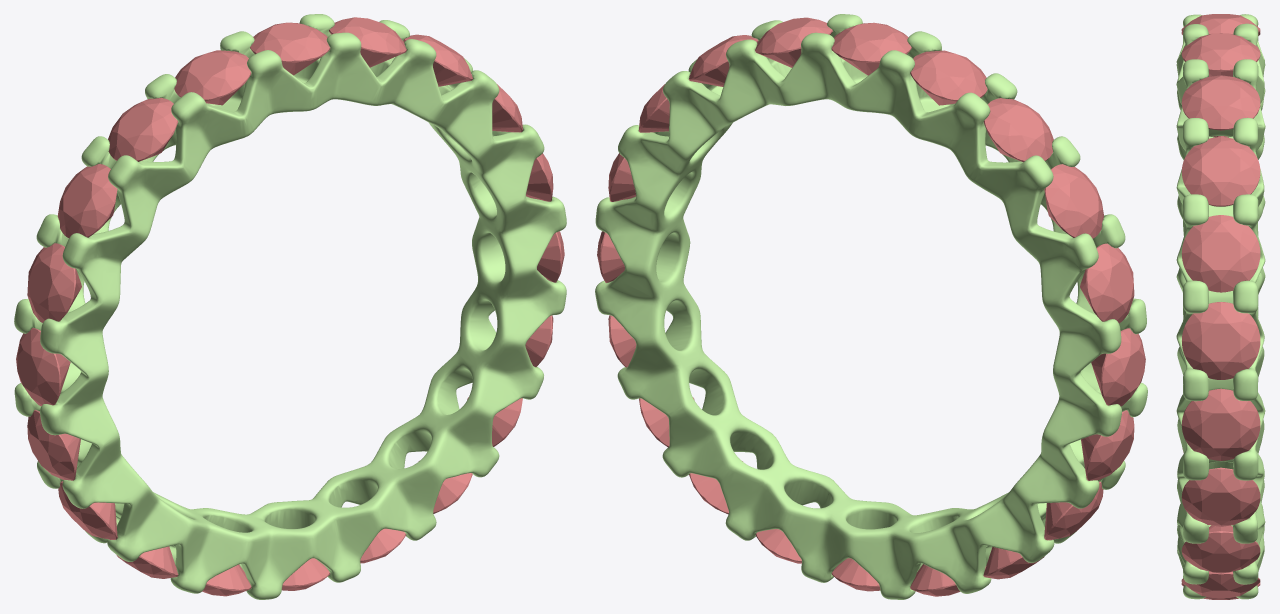
File: BE2D0352E_RENDER.glb
The picture shows the model from 3 angles, left to right: view 1: azimuth 30°, elevation 25°; view 2: azimuth 150°, elevation 25°; view 3: azimuth 270°, elevation 25°; orthographic projection. The views are drawn at different scales.
Parts seen in each view (by area): view 1: Metal03, Diamond_Round_Gem_BD.005, Diamond_Round_Gem_BD.004, Diamond_Round_Gem_BD.006, Diamond_Round_Gem_BD.003, Diamond_Round_Gem_BD.007, Diamond_Round_Gem_BD.002, Diamond_Round_Gem_BD.008, Diamond_Round_Gem_BD.001, Diamond_Round_Gem_BD.009, Diamond_Round_Gem_BD, Diamond_Round_Gem_BD.010 (+9 smaller); view 2: Metal03, Diamond_Round_Gem_BD.005, Diamond_Round_Gem_BD.004, Diamond_Round_Gem_BD.006, Diamond_Round_Gem_BD.003, Diamond_Round_Gem_BD.007, Diamond_Round_Gem_BD.002, Diamond_Round_Gem_BD.008, Diamond_Round_Gem_BD.001, Diamond_Round_Gem_BD.009, Diamond_Round_Gem_BD, Diamond_Round_Gem_BD.010 (+9 smaller); view 3: Metal03, Diamond_Round_Gem_BD.018, Diamond_Round_Gem_BD.019, Diamond_Round_Gem_BD.017, Diamond_Round_Gem_BD, Diamond_Round_Gem_BD.016, Diamond_Round_Gem_BD.001, Diamond_Round_Gem_BD.015, Diamond_Round_Gem_BD.002, Diamond_Round_Gem_BD.014, Diamond_Round_Gem_BD.003.
Boxes of the visible parts, x1,y1,x2,y2 form: Metal03: (14,14,566,599); Diamond_Round_Gem_BD.005: (57,164,117,237); Diamond_Round_Gem_BD.004: (108,97,178,161); Diamond_Round_Gem_BD.006: (27,243,81,322); Diamond_Round_Gem_BD.003: (174,50,251,105); Diamond_Round_Gem_BD.007: (16,328,70,406); Diamond_Round_Gem_BD.002: (250,22,330,75); Diamond_Round_Gem_BD.008: (27,409,80,480); Diamond_Round_Gem_BD.001: (329,17,406,67); Diamond_Round_Gem_BD.009: (58,481,117,539); Diamond_Round_Gem_BD: (403,34,472,86); Diamond_Round_Gem_BD.010: (109,539,178,578); Metal03: (595,14,1147,599); Diamond_Round_Gem_BD.005: (1044,164,1103,238); Diamond_Round_Gem_BD.004: (983,98,1053,162); Diamond_Round_Gem_BD.006: (1080,243,1134,322); Diamond_Round_Gem_BD.003: (910,50,987,105); Diamond_Round_Gem_BD.007: (1091,328,1145,406); Diamond_Round_Gem_BD.002: (831,22,911,75); Diamond_Round_Gem_BD.008: (1081,410,1134,480); Diamond_Round_Gem_BD.001: (755,17,832,67); Diamond_Round_Gem_BD.009: (1044,481,1103,540); Diamond_Round_Gem_BD: (689,35,758,86); Diamond_Round_Gem_BD.010: (983,539,1052,579); Metal03: (1176,14,1265,599); Diamond_Round_Gem_BD.018: (1182,302,1260,379); Diamond_Round_Gem_BD.019: (1181,215,1260,292); Diamond_Round_Gem_BD.017: (1181,388,1260,460); Diamond_Round_Gem_BD: (1181,137,1260,206); Diamond_Round_Gem_BD.016: (1181,467,1260,526); Diamond_Round_Gem_BD.001: (1181,75,1260,130); Diamond_Round_Gem_BD.015: (1181,525,1260,573); Diamond_Round_Gem_BD.002: (1181,33,1260,76); Diamond_Round_Gem_BD.014: (1181,571,1260,597); Diamond_Round_Gem_BD.003: (1181,14,1260,34).
Bounding box in the file's own units: 21.62 × 21.62 × 3.29.
